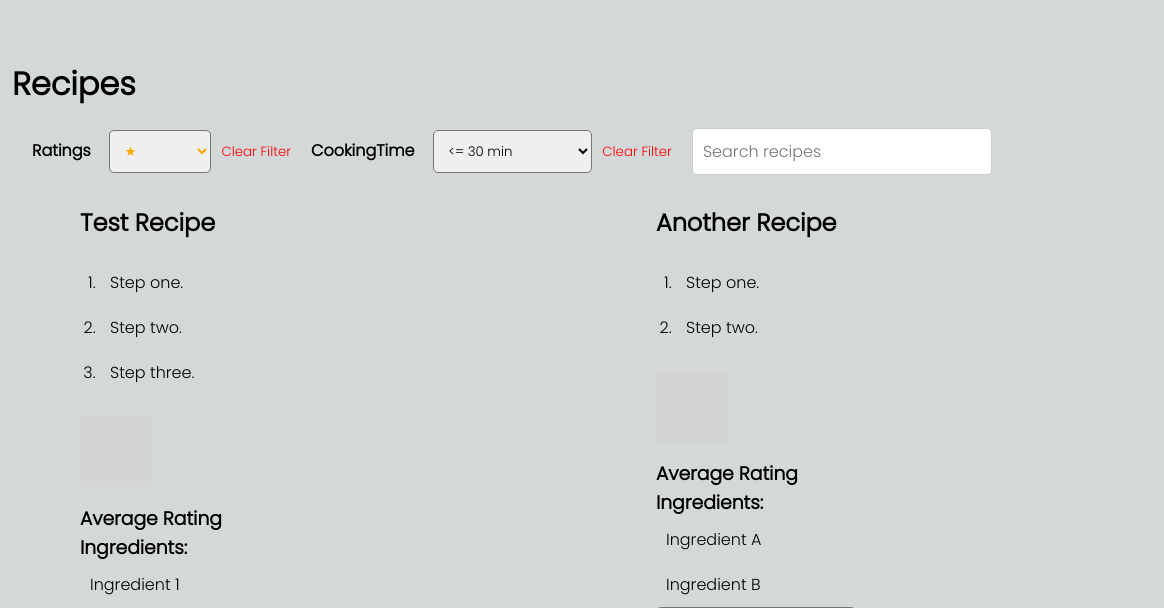
ViewAllRecipes › should search for recipes and update the list based on search term
Find the search input and simulate typing
Type "Test Recipe" into the field with placeholder "Search recipes" at (842, 152), box [692,128,992,175]
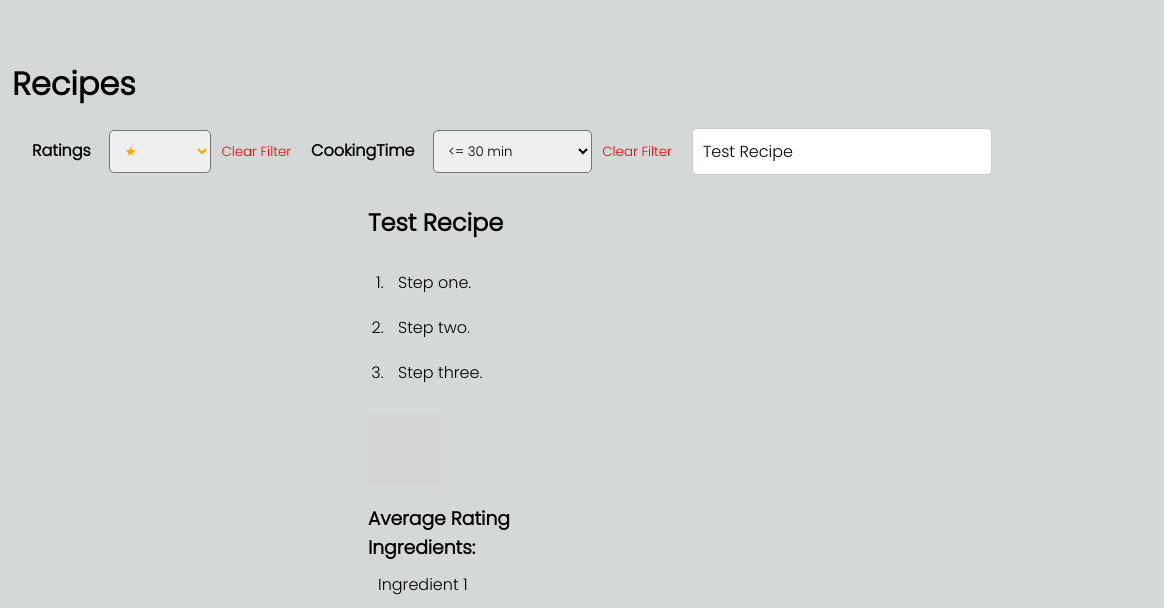
Expected: the heading "Test Recipe" is shown, [368,206,503,239]
Now the heading "Another Recipe" is gone
